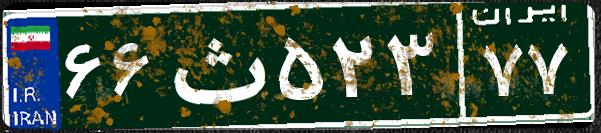2: (330, 28, 385, 110)
3: (385, 28, 445, 110)
5: (273, 28, 330, 110)
6: (57, 26, 110, 107), (110, 28, 158, 105)
7: (475, 38, 525, 113), (525, 38, 570, 115)
ث: (158, 15, 273, 115)
